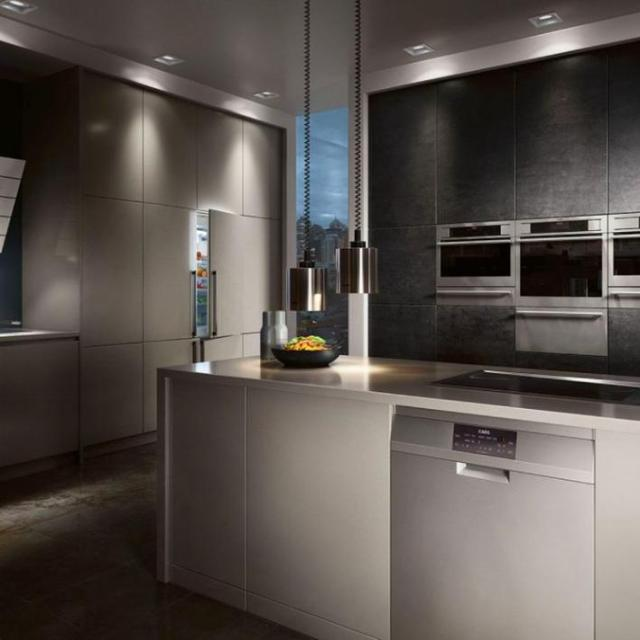dishwasher: (391, 404, 597, 639)
